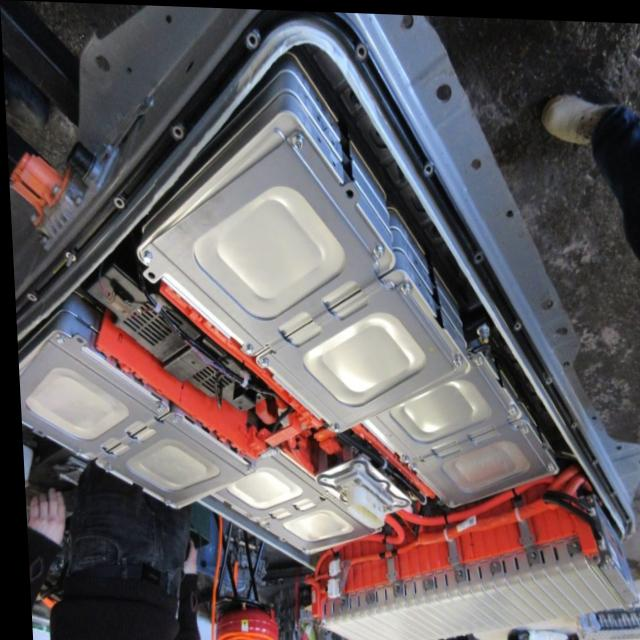Battery Module: (161, 136, 442, 416), (18, 344, 235, 499), (371, 367, 537, 497), (327, 566, 613, 640), (220, 461, 357, 546)
Bolt: (367, 235, 389, 256), (286, 129, 306, 150), (251, 351, 269, 372), (395, 274, 412, 296), (136, 245, 153, 265), (539, 450, 554, 471), (238, 336, 253, 357), (67, 444, 87, 459), (51, 331, 67, 347), (151, 398, 167, 413), (470, 349, 483, 367), (165, 410, 180, 425), (237, 460, 253, 474), (95, 461, 111, 475), (449, 350, 463, 365), (501, 401, 515, 415), (325, 417, 341, 429), (157, 494, 169, 509), (294, 544, 306, 556), (517, 420, 528, 431), (259, 518, 269, 528)
Bus-bar: (93, 284, 317, 453), (349, 422, 428, 497), (279, 425, 335, 470)
Cable: (323, 474, 565, 579)
Nut: (519, 542, 535, 563), (416, 572, 432, 589), (385, 578, 401, 595), (356, 585, 370, 602), (475, 323, 489, 340), (483, 553, 498, 568), (449, 562, 459, 579), (563, 534, 574, 547)
